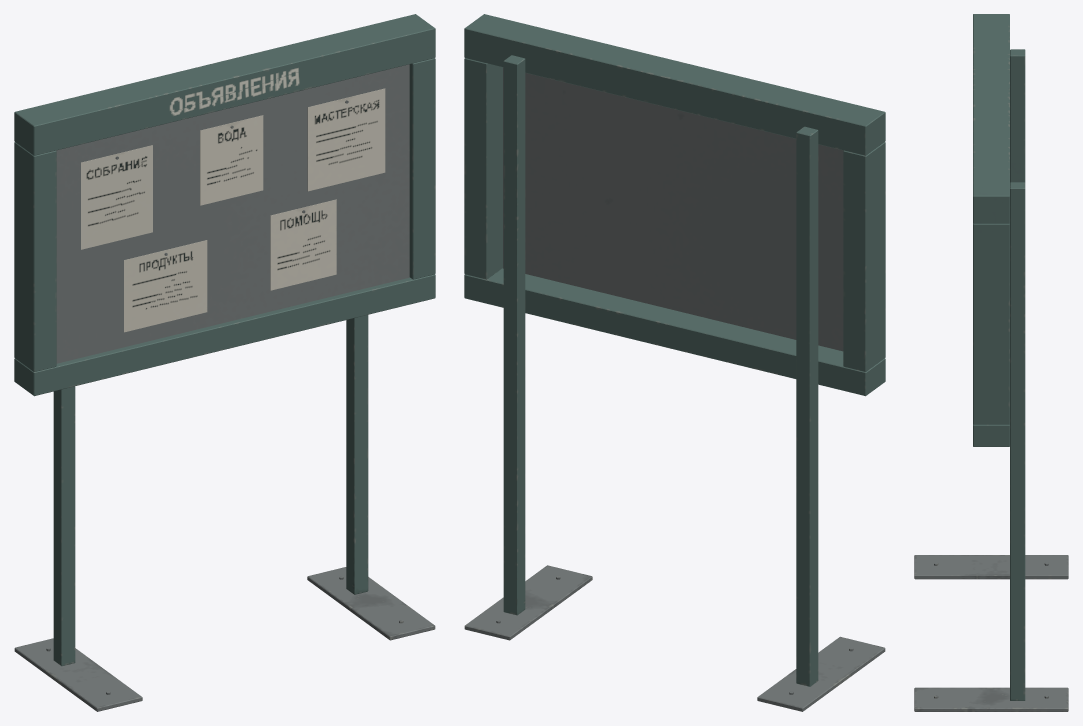
The model's file is notice_board_freestanding.glb.
3 renders of one model, left to right at view 1: azimuth 30°, elevation 25°; view 2: azimuth 150°, elevation 25°; view 3: azimuth 270°, elevation 25°, orthographic. The views are drawn at different scales.
Visible parts, largest first — view 1: NoticeBoardFreestanding; view 2: NoticeBoardFreestanding; view 3: NoticeBoardFreestanding.
Boxes of the visible parts, x1,y1,x2,y2 form: NoticeBoardFreestanding: (14, 14, 435, 711); NoticeBoardFreestanding: (464, 14, 885, 711); NoticeBoardFreestanding: (914, 14, 1068, 711).
Size of what is drawn, in the model's own units: 1.4 by 1.9 by 0.5.
1 material, 1 textured.
